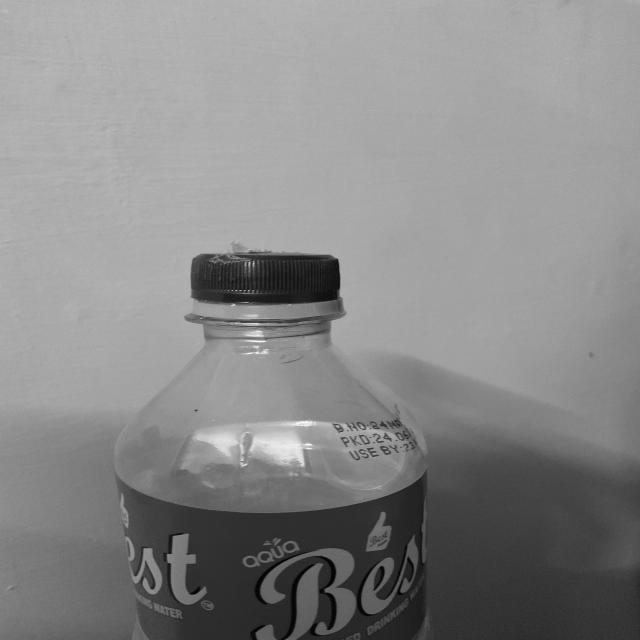Good-cap-Df0S: (184, 250, 345, 323)
